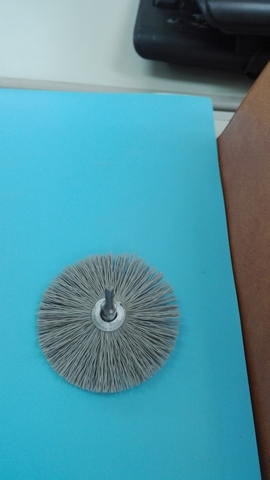TOOL: (7, 236, 255, 440), (31, 246, 207, 406)
